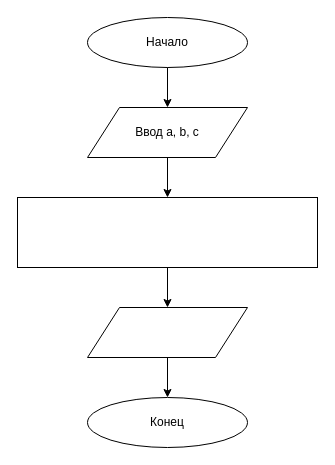
Image size: 335x465. Some labels were removed from this diagram. The shapes that lost their labels are listed below. From the top down, each one's centre as x and y in pixels, then its label:
At point 167,232: "y = (ln(a^2+b^2)+b^c) / (abc)".
At point 167,332: "Вывод y".
